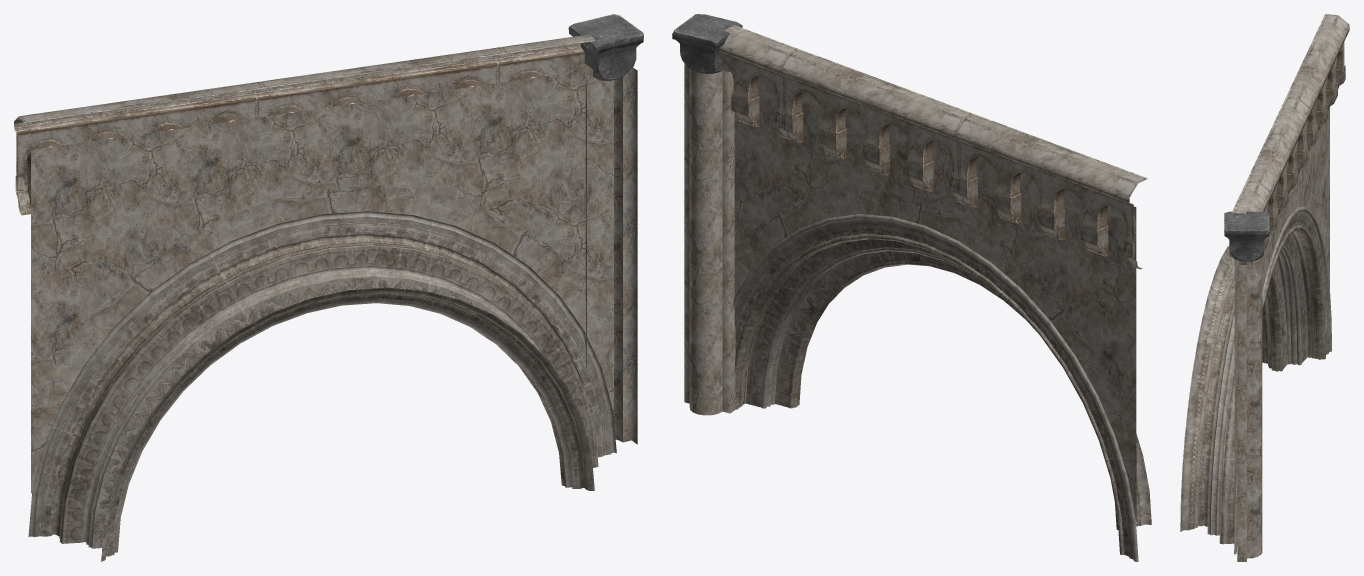
3 views of the same model, side by side, from view 1: azimuth 30°, elevation 25°; view 2: azimuth 150°, elevation 25°; view 3: azimuth 270°, elevation 25° (orthographic). The views are drawn at different scales.
Parts seen in each view (by area): view 1: SM_ArcadeBossRoomCeiling_LOD0; view 2: SM_ArcadeBossRoomCeiling_LOD0; view 3: SM_ArcadeBossRoomCeiling_LOD0.
Boxes of the visible parts, x1,y1,x2,y2 form: SM_ArcadeBossRoomCeiling_LOD0: (14, 14, 643, 561); SM_ArcadeBossRoomCeiling_LOD0: (672, 14, 1151, 561); SM_ArcadeBossRoomCeiling_LOD0: (1180, 14, 1349, 561).
Size of the model in its own units: 8.61 by 6.18 by 2.85.
4 materials, 4 textured.
